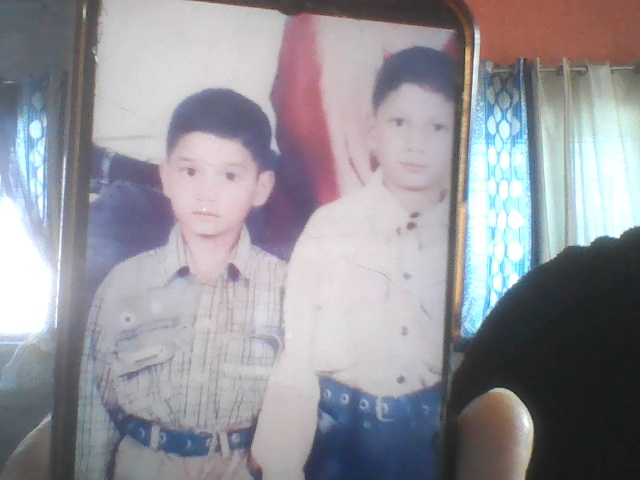fake: (330, 25, 471, 225), (162, 96, 271, 250)
